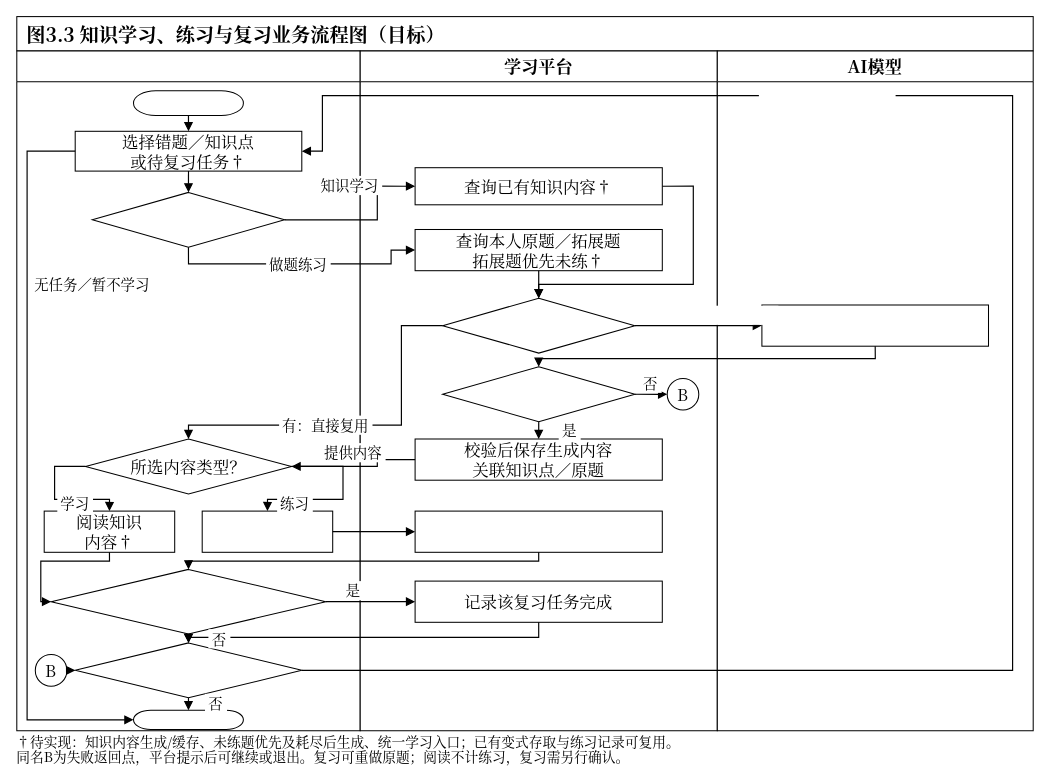
Image size: 1050x782. Some labels were removed from this diagram. The shapes that lost their labels are listed below. From the top down, each one's box as (x1, y1, x2, y2) in pixels, then its label:
(132, 90, 243, 116): 开始
(758, 85, 895, 105): 是：重新选择、查库
(91, 191, 285, 247): 本次需要？
(442, 297, 635, 353): 有合适资源？
(656, 305, 778, 324): 无／未练题耗尽†
(761, 304, 988, 346): 按所选类型生成 知识讲解†／变式题
(16, 50, 360, 731): 学生
(442, 366, 635, 422): 结果可用？
(201, 510, 333, 552): 作答并自行 判定正误
(414, 510, 662, 552): 保存作答与题目标识 更新掌握度
(50, 568, 326, 634): 已选复习任务 且确认完成？
(74, 642, 302, 698): 继续学习或练习？
(132, 709, 243, 729): 结束
